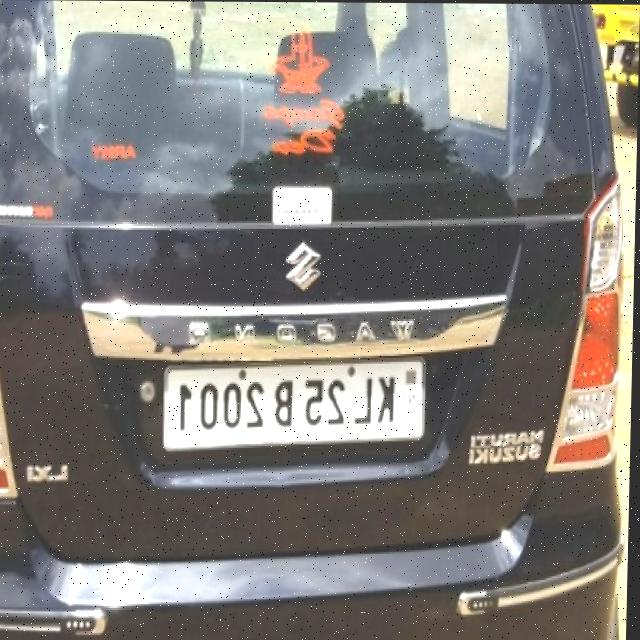plate: (166, 362, 425, 448)
